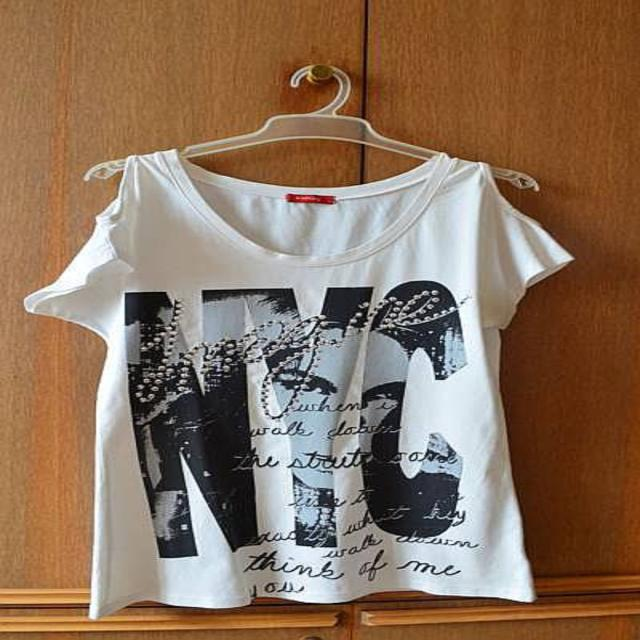T_SHIRT: (20, 146, 580, 631)
